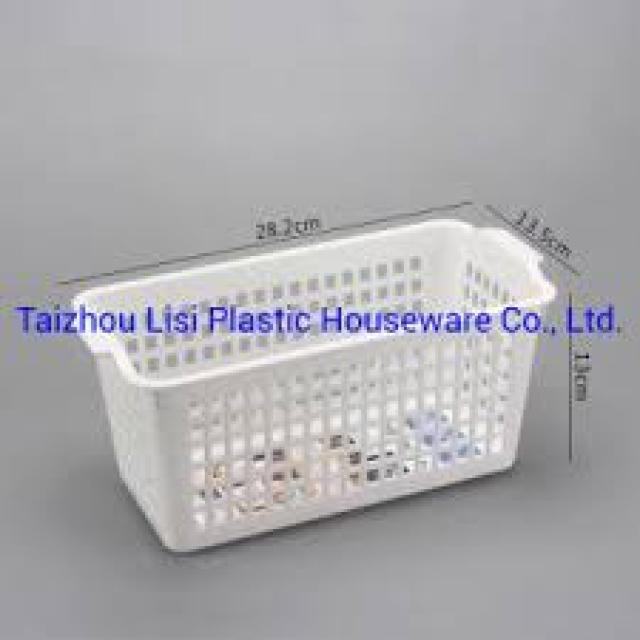basket: (19, 174, 596, 578)
